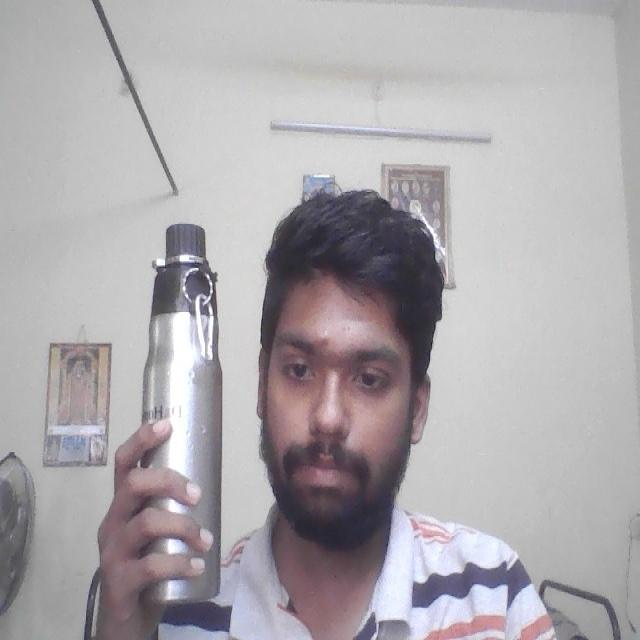Drinking: (136, 212, 225, 609)
